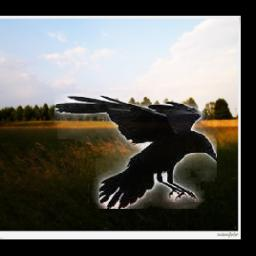Crow: (54, 93, 217, 209)
